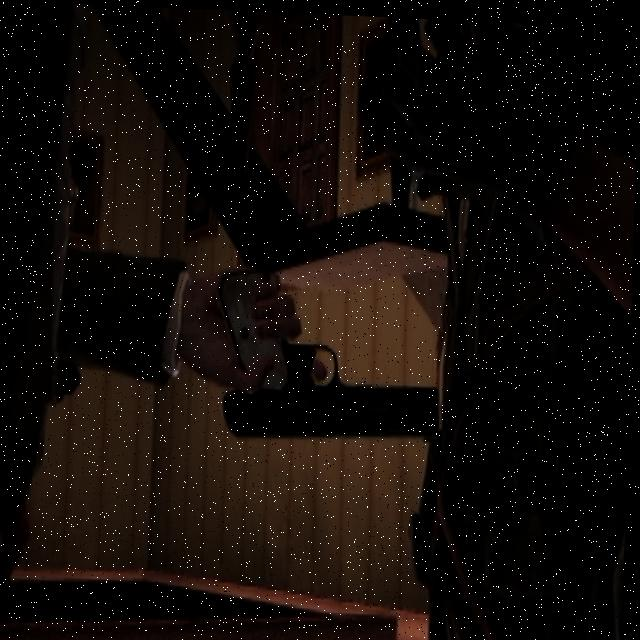pistol: (215, 262, 449, 443)
